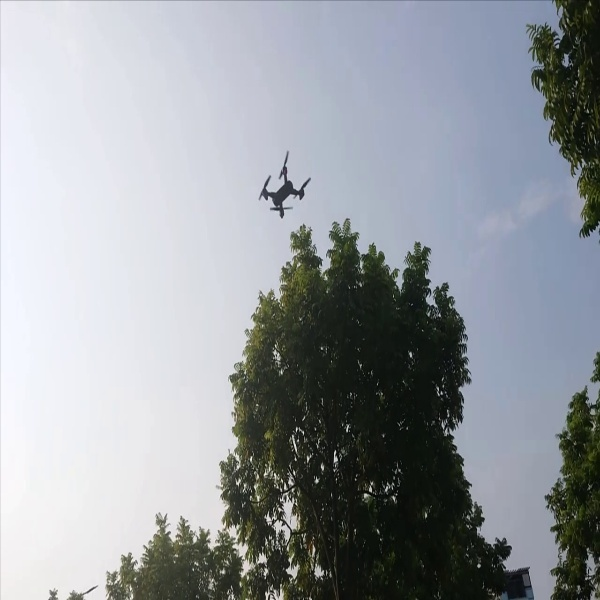drone: (245, 140, 314, 220)
